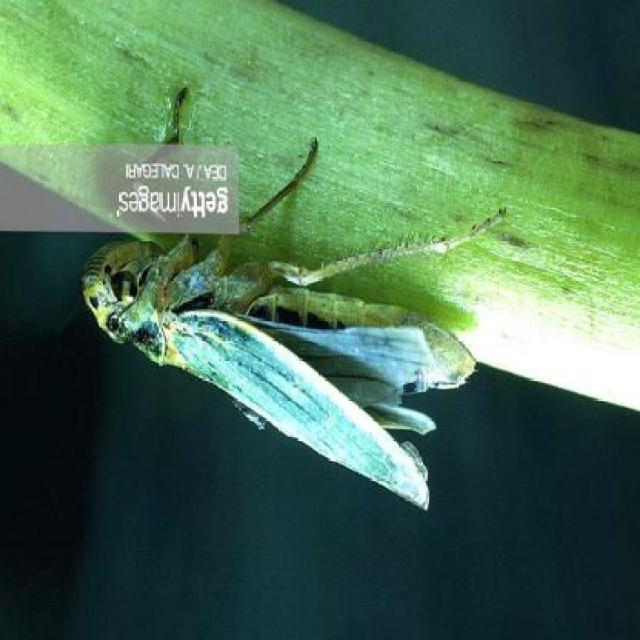green-leafhopper: (87, 226, 481, 512)
